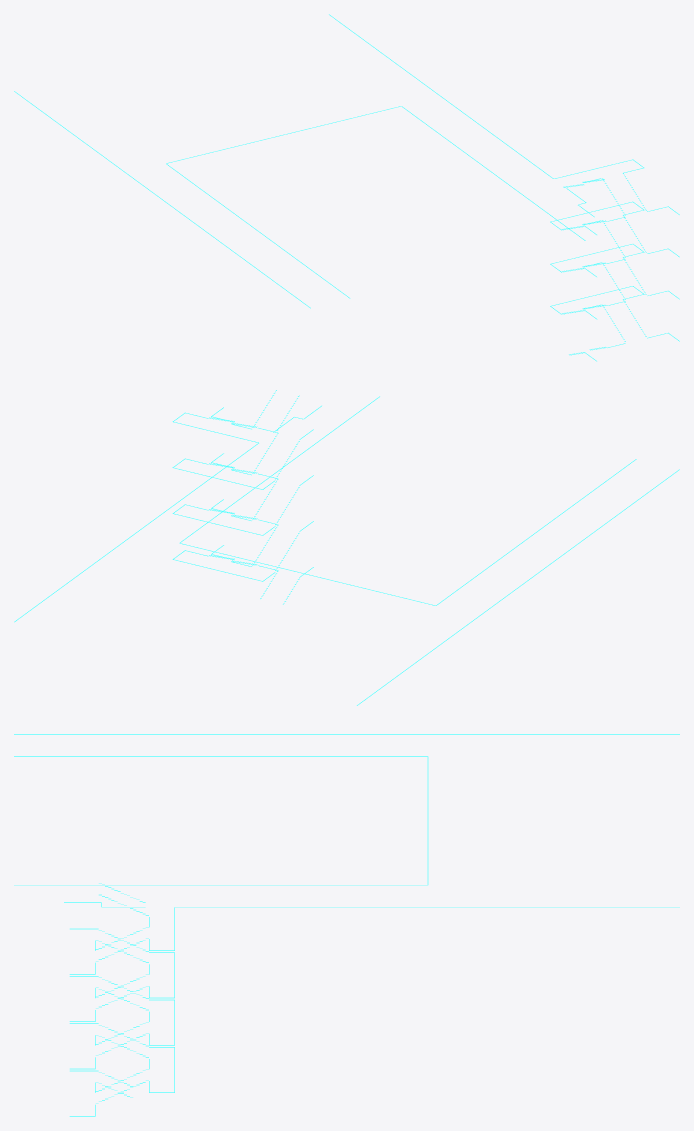
Rendered from v02-00-06-cyan.glb.
3 renders of one model, top to bottom at view 1: azimuth 30°, elevation 25°; view 2: azimuth 150°, elevation 25°; view 3: azimuth 270°, elevation 25°, orthographic. The views are drawn at different scales.
Visible parts, largest first — view 1: v02-00-06-cyan; view 2: v02-00-06-cyan; view 3: v02-00-06-cyan.
Part boxes in pixels (left/top/right/bottom): v02-00-06-cyan: left=14, top=14, right=679, bottom=361; v02-00-06-cyan: left=14, top=390, right=679, bottom=705; v02-00-06-cyan: left=14, top=734, right=679, bottom=1116.
Bounding box in the file's own units: 58.79 × 25.73 × 76.5.
